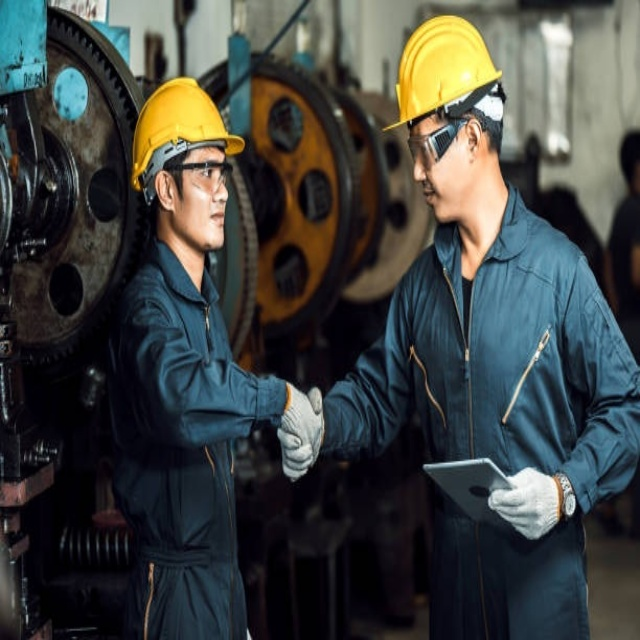Gafas: (406, 118, 471, 173), (170, 158, 234, 193)
Guantes: (488, 466, 564, 540), (277, 383, 323, 480)
Sin_mascara: (420, 180, 445, 224), (203, 202, 229, 240)
